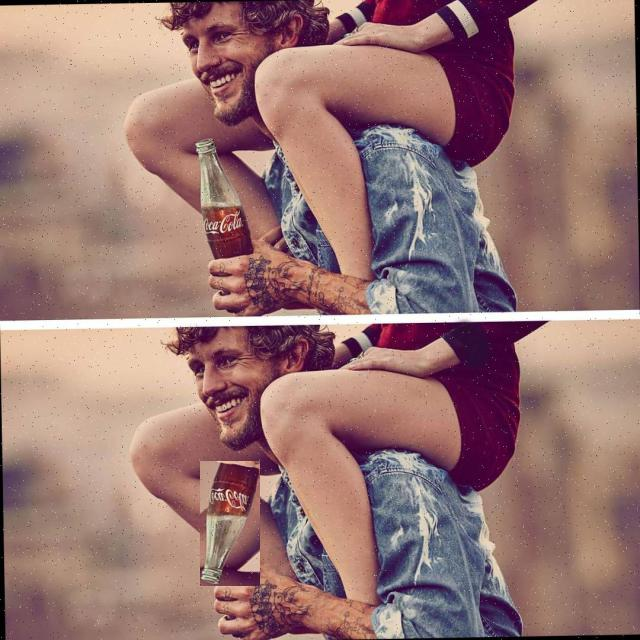coca-cola: (200, 461, 260, 586), (195, 137, 254, 263)
